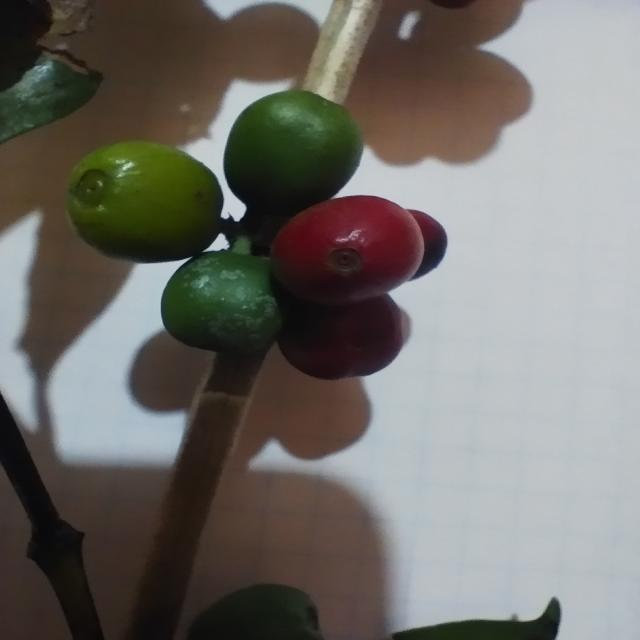Danado: (159, 251, 284, 361)
Sano: (65, 142, 226, 266), (223, 90, 364, 218), (271, 195, 425, 310), (277, 290, 414, 383)
